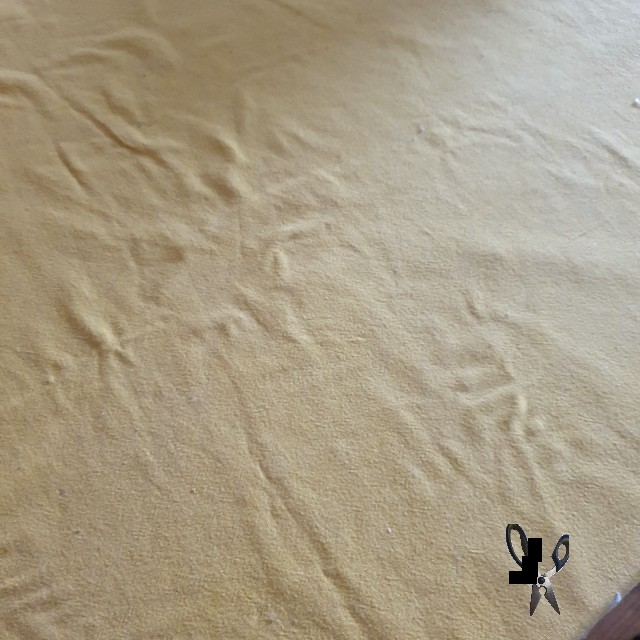scissors: (506, 524, 569, 616)
